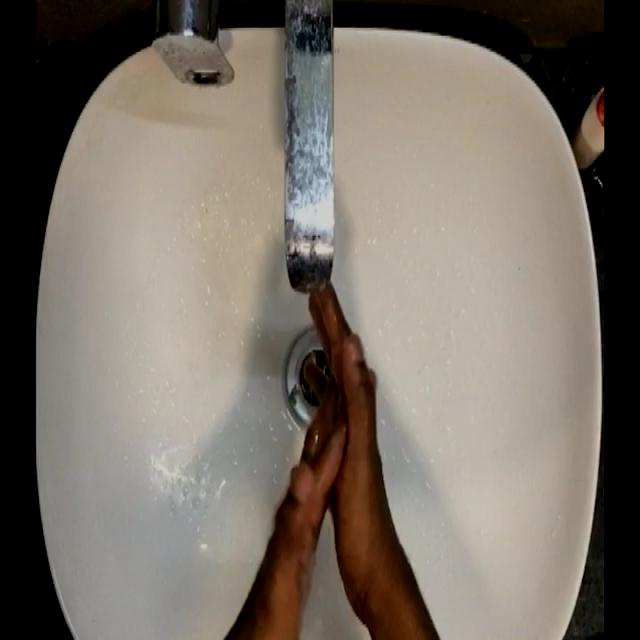step_3: (251, 256, 400, 596)
